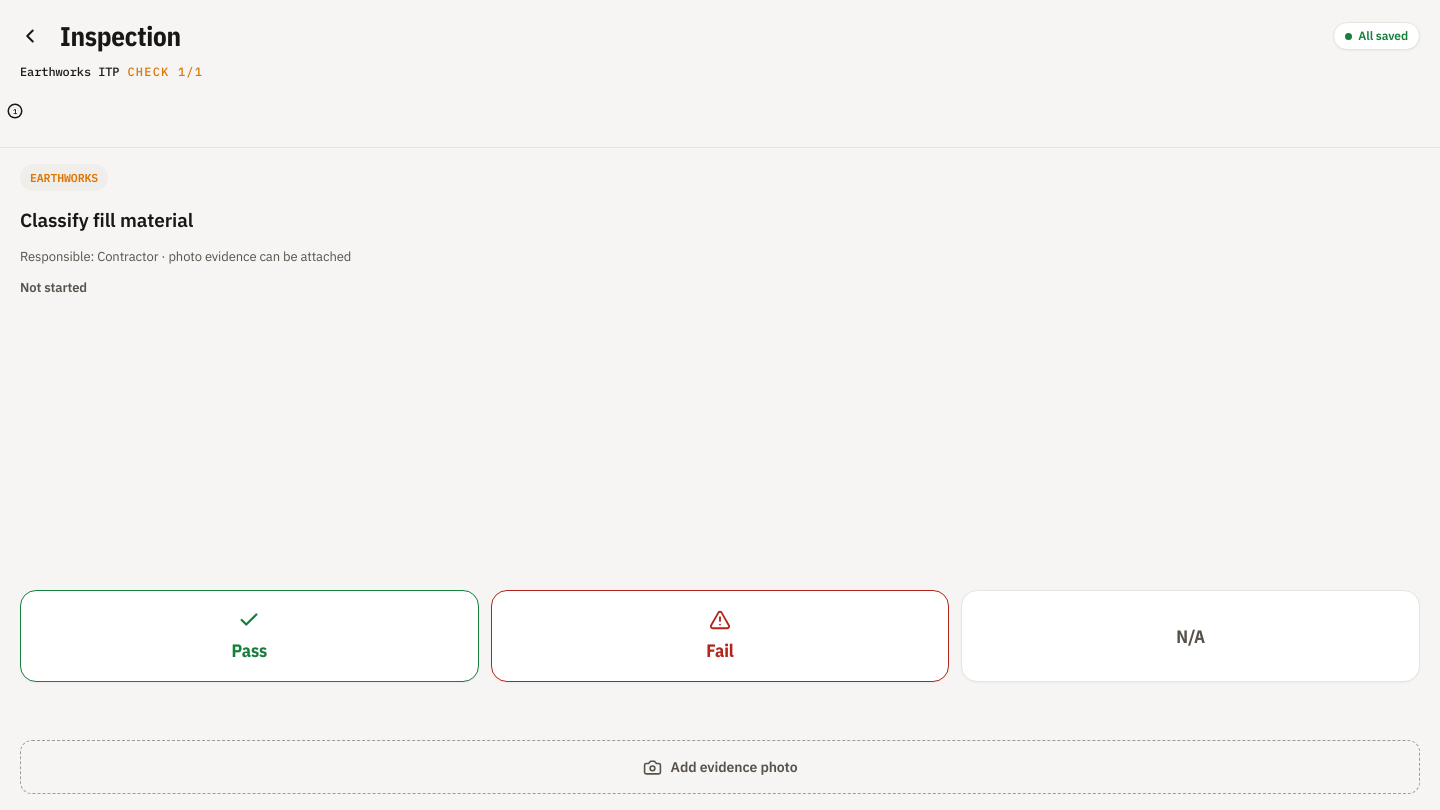
ItpRunScreen — active item › N/A without a reason shows a validation error and does not submit
Click the button named "Mark not applicable" at (1191, 636), box [961,590,1420,682]
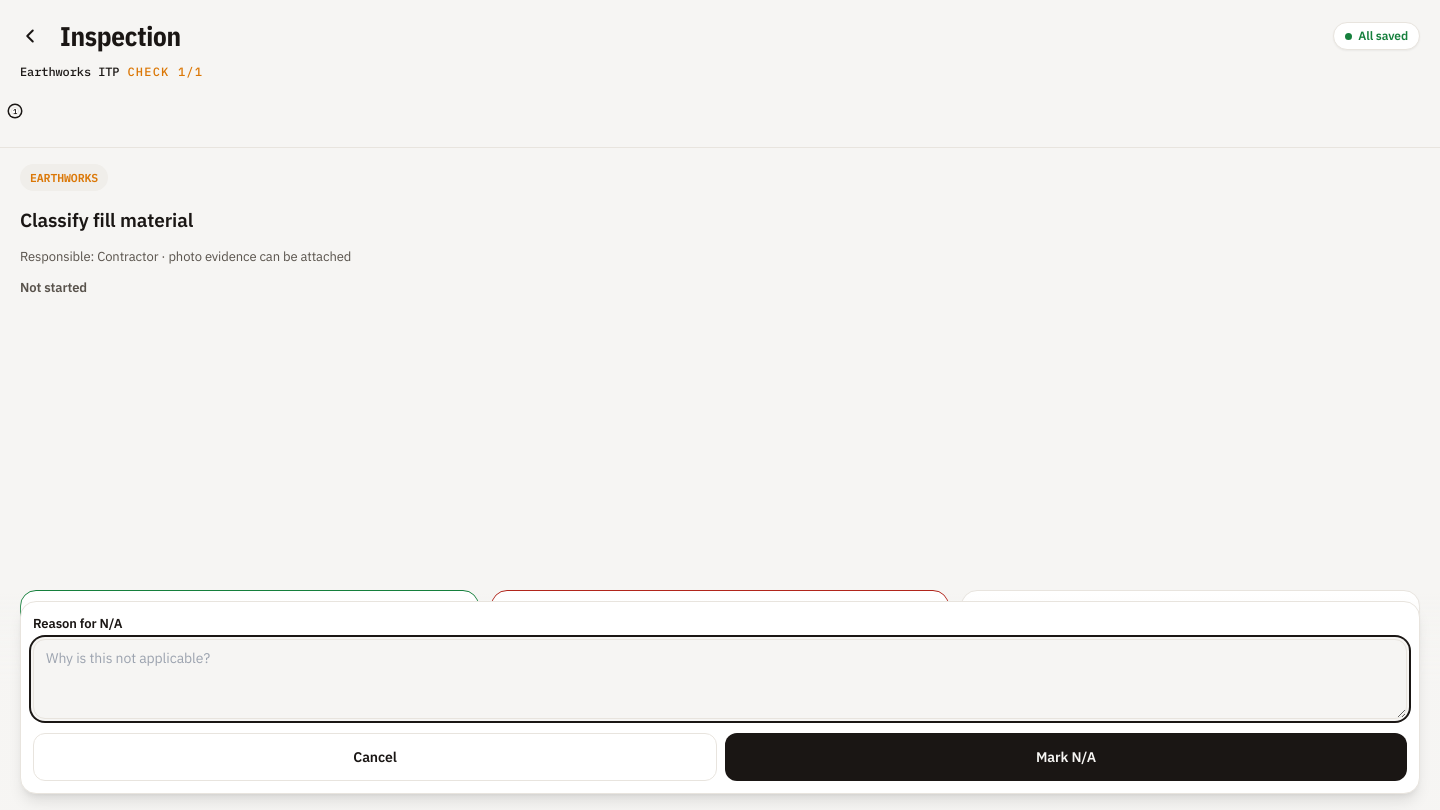
Click the button "Mark N/A" at (1066, 757), box [725,733,1407,781]
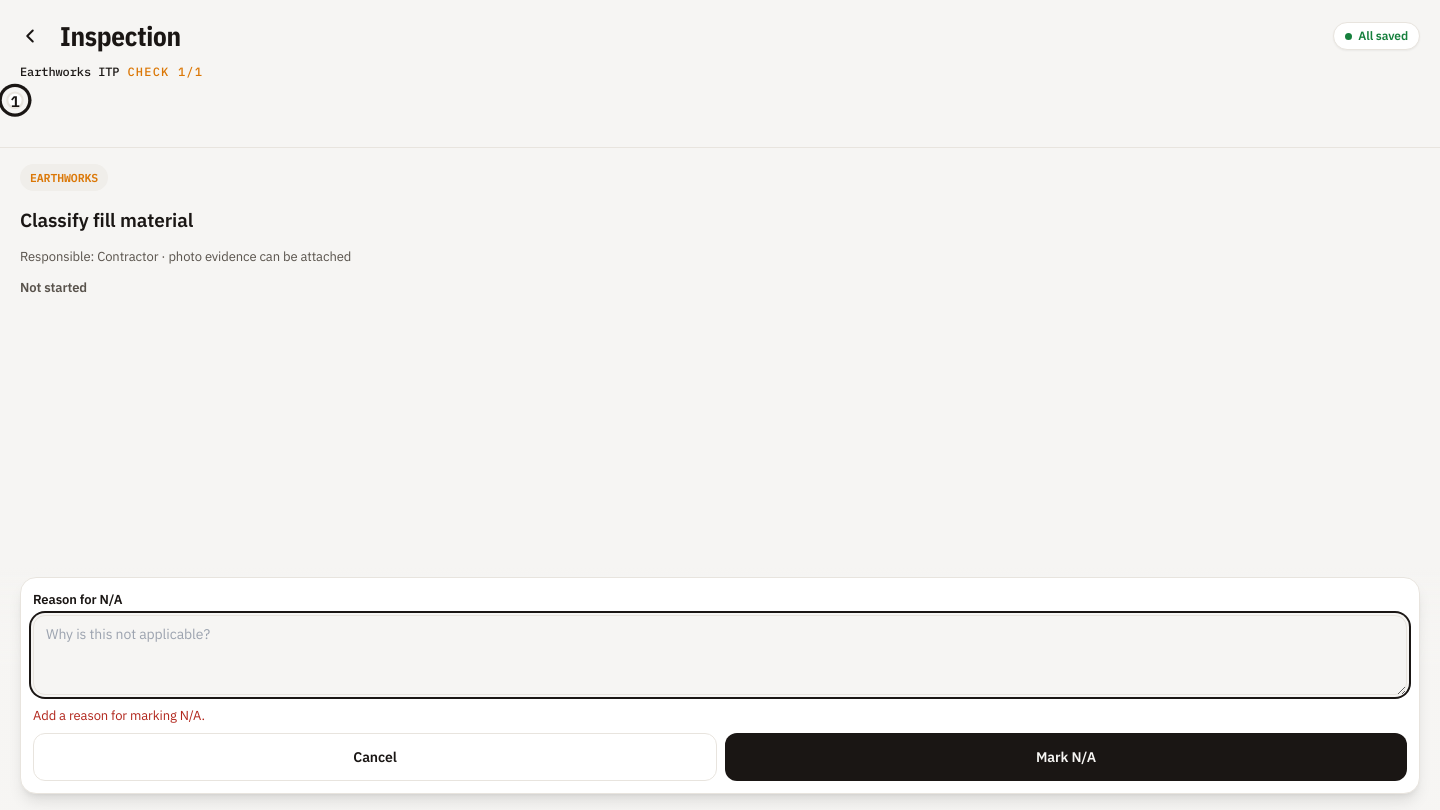
Check: the message shows "reason", box [33,706,205,724]
